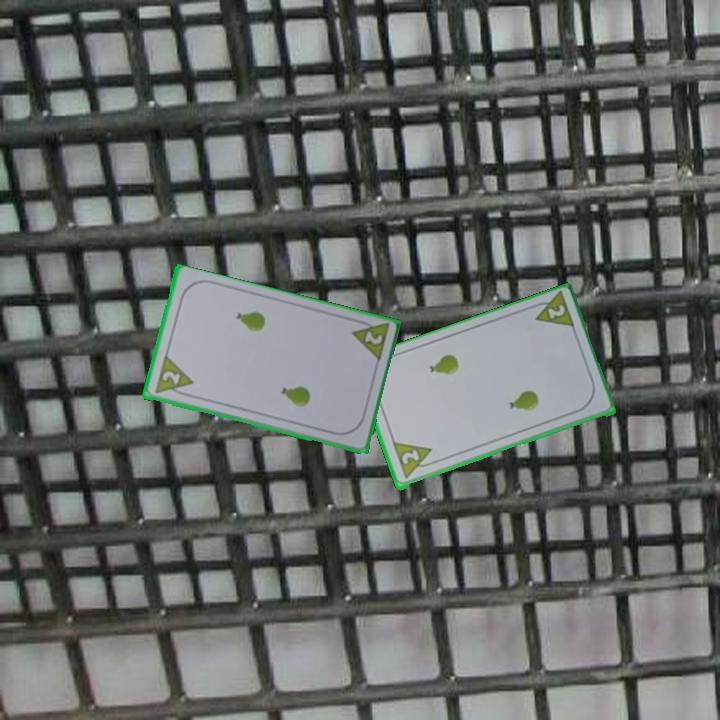2p: (526, 290, 578, 333), (348, 315, 392, 365), (398, 446, 422, 468), (158, 367, 183, 387)
